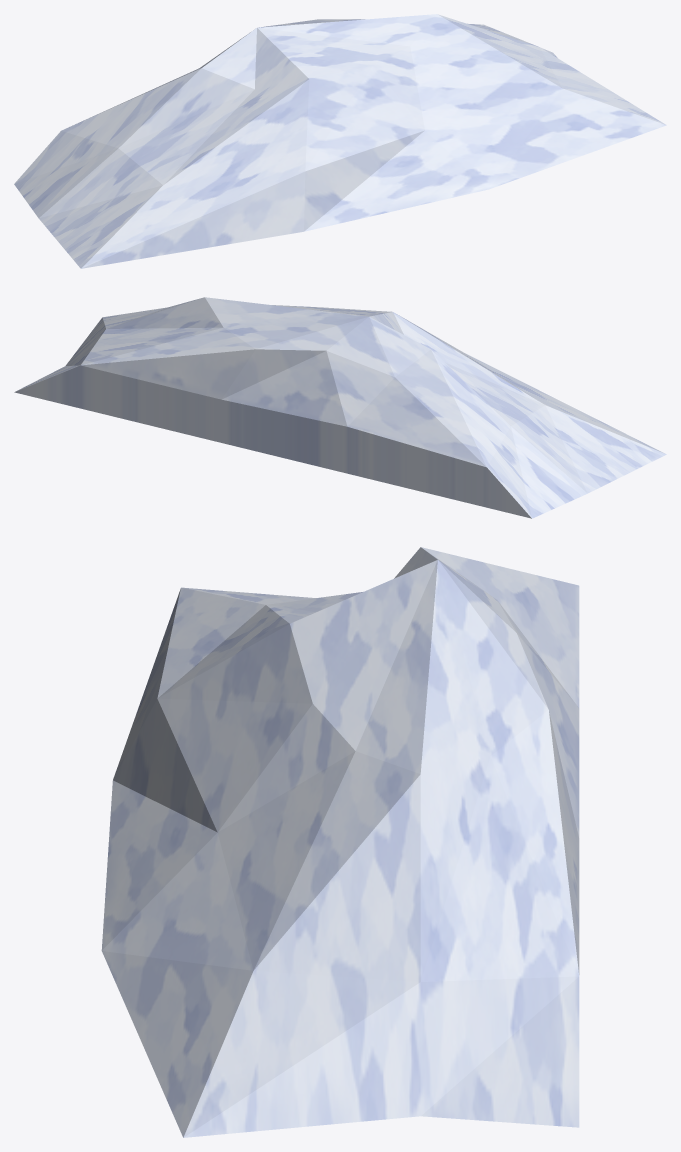
The model's file is drift_wall.glb.
3 renders of one model, top to bottom at view 1: azimuth 30°, elevation 25°; view 2: azimuth 150°, elevation 25°; view 3: azimuth 270°, elevation 25°, orthographic. The views are drawn at different scales.
Parts seen in each view (by area): view 1: winter_drift_wall; view 2: winter_drift_wall; view 3: winter_drift_wall.
Boxes of the visible parts, x1,y1,x2,y2 form: winter_drift_wall: (14,14,666,268); winter_drift_wall: (14,297,666,518); winter_drift_wall: (101,547,579,1137).
Bounding box in the file's own units: 3 × 0.65 × 1.1.
1 material, 1 textured.
